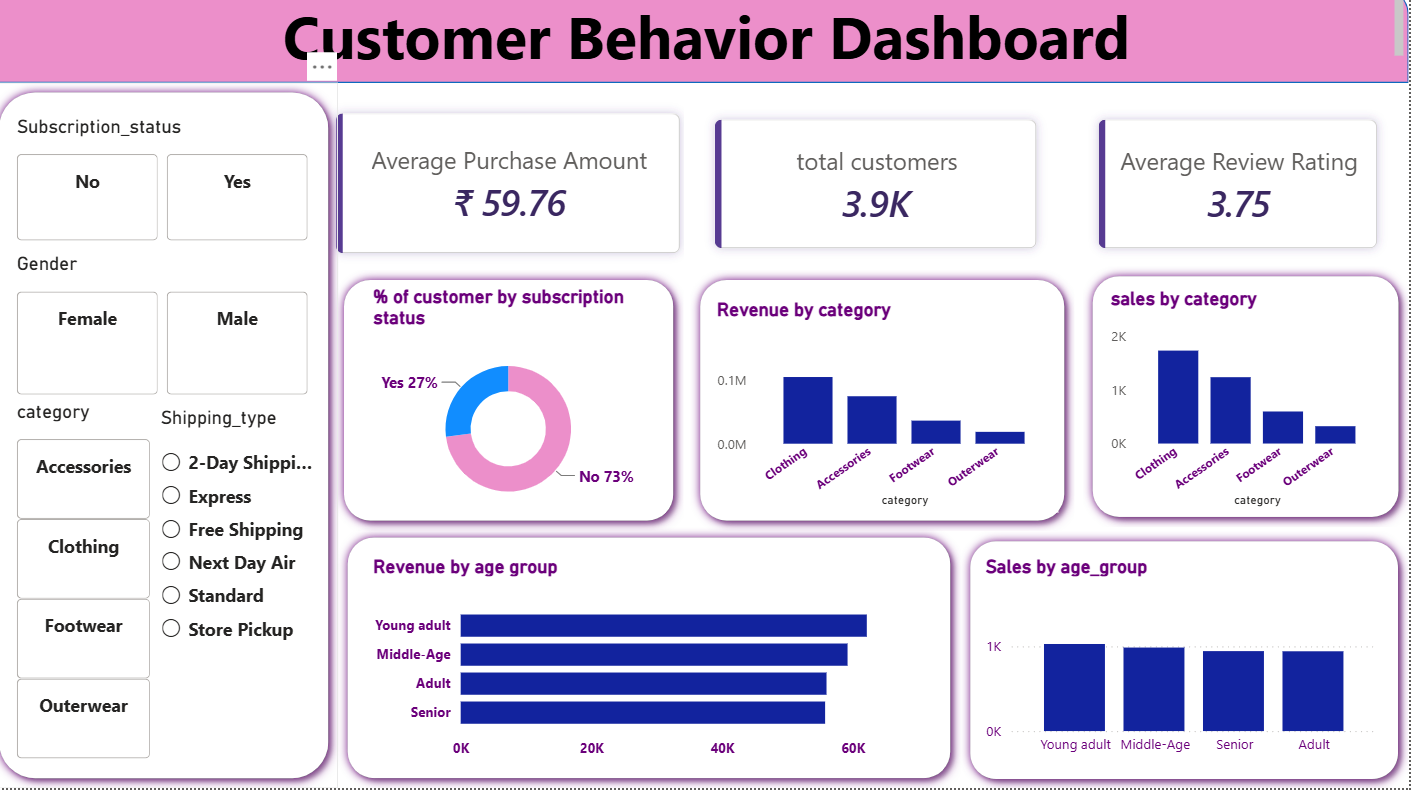

This screenshot's page, from the dashboard's own definition file:
{"tool":"powerbi","page":{"name":"Page 1","canvas":[1280,720],"ordinal":0},"visuals":[{"type":"cardVisual","fields":{"Data":["customer_behaviour customer.Average Purchase Amount"]},"box":[285,83.8,366.2,182.5],"z":0},{"type":"cardVisual","fields":{"Data":["customer_behaviour customer.Average Review Rating"]},"box":[972.5,88.8,307.5,172.5],"z":1000},{"type":"cardVisual","fields":{"Data":["customer_behaviour customer.total customers"]},"box":[626.2,88.8,346.2,172.5],"z":2000},{"type":"shape","box":[0,0,1280,83.8],"z":3000},{"type":"textbox","box":[22.5,0,1257.5,72.5],"z":4000},{"type":"shape","box":[311.2,252.5,315,235],"z":5000},{"type":"donutChart","title":"% of customer by subscription status","fields":{"Category":["customer_behaviour customer.subscription_status"],"Y":["CountNonNull(customer_behaviour customer.customer_id)"]},"box":[341.2,266.2,253.8,210],"z":6000},{"type":"shape","box":[632.5,252.5,346.2,235],"z":7000},{"type":"shape","box":[986.2,248.8,293.8,235],"z":8000},{"type":"clusteredColumnChart","title":"Revenue by category","fields":{"Y":["Sum(customer_behaviour customer.purchase_amount)"],"Category":["customer_behaviour customer.category"]},"box":[651.2,278.8,312.5,192.5],"z":9000},{"type":"clusteredColumnChart","title":"sales by category","fields":{"Category":["customer_behaviour customer.category"],"Y":["CountNonNull(customer_behaviour customer.customer_id)"]},"box":[1006.2,268.8,251.2,202.5],"z":10000},{"type":"shape","box":[0,83.8,315,636.2],"z":11000},{"type":"advancedSlicerVisual","fields":{"Values":["customer_behaviour customer.subscription_status"]},"box":[20,112.5,273.8,118.8],"z":12000},{"type":"shape","box":[315,485,561.2,235],"z":13000},{"type":"shape","box":[876.2,487.5,403.8,232.5],"z":14000},{"type":"advancedSlicerVisual","fields":{"Values":["customer_behaviour customer.gender"]},"box":[20,236.2,273.8,133.8],"z":15000},{"type":"advancedSlicerVisual","fields":{"Values":["customer_behaviour customer.category"]},"box":[20,370,130,328.8],"z":16000},{"type":"listSlicer","fields":{"Values":["customer_behaviour customer.shipping_type"]},"box":[150,375,152.5,296.2],"z":17000},{"type":"clusteredBarChart","title":"Revenue by age group","fields":{"Y":["Sum(customer_behaviour customer.purchase_amount)"],"Category":["customer_behaviour customer.age_group"]},"box":[341.2,510,512.5,192.5],"z":18000},{"type":"columnChart","title":"Sales by age_group","fields":{"Y":["CountNonNull(customer_behaviour customer.customer_id)"],"Category":["customer_behaviour customer.age_group"]},"box":[893.8,510,363.8,188.8],"z":19000}]}

Visuals, with their boxes in screenshot pixels (x1, y1, x2, y2), scaled from the page's 1280x720 canvas onto the 1411x796 screenshot:
cardVisual - customer_behaviour customer.Average Purchase Amount: x1=314 y1=93 x2=718 y2=294
cardVisual - customer_behaviour customer.Average Review Rating: x1=1072 y1=98 x2=1410 y2=289
cardVisual - customer_behaviour customer.total customers: x1=690 y1=98 x2=1072 y2=289
shape: x1=0 y1=0 x2=1410 y2=93
textbox: x1=25 y1=0 x2=1410 y2=80
shape: x1=343 y1=279 x2=690 y2=539
"% of customer by subscription status" donutChart: x1=376 y1=294 x2=656 y2=526
shape: x1=697 y1=279 x2=1079 y2=539
shape: x1=1087 y1=275 x2=1410 y2=535
"Revenue by category" clusteredColumnChart: x1=718 y1=308 x2=1062 y2=521
"sales by category" clusteredColumnChart: x1=1109 y1=297 x2=1386 y2=521
shape: x1=0 y1=93 x2=347 y2=795
advancedSlicerVisual - customer_behaviour customer.subscription_status: x1=22 y1=124 x2=324 y2=256
shape: x1=347 y1=536 x2=966 y2=795
shape: x1=966 y1=539 x2=1410 y2=795
advancedSlicerVisual - customer_behaviour customer.gender: x1=22 y1=261 x2=324 y2=409
advancedSlicerVisual - customer_behaviour customer.category: x1=22 y1=409 x2=165 y2=773
listSlicer - customer_behaviour customer.shipping_type: x1=165 y1=415 x2=333 y2=742
"Revenue by age group" clusteredBarChart: x1=376 y1=564 x2=941 y2=777
"Sales by age_group" columnChart: x1=985 y1=564 x2=1386 y2=773
